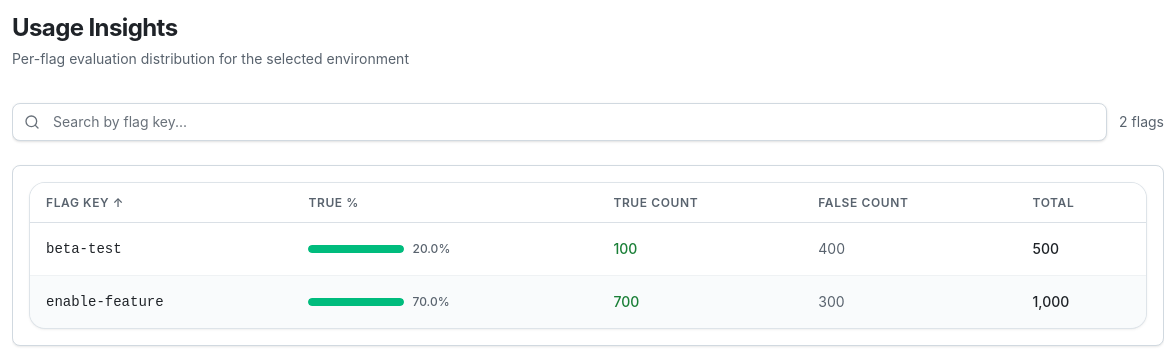
Test: UsageInsightsPage › search filter on flag key
Expected: the text "enable-feature" is shown, 30,276 -> 292,328
In the field with placeholder "Search by flag key...": (560, 122) 12,103 -> 1107,141, type "beta"
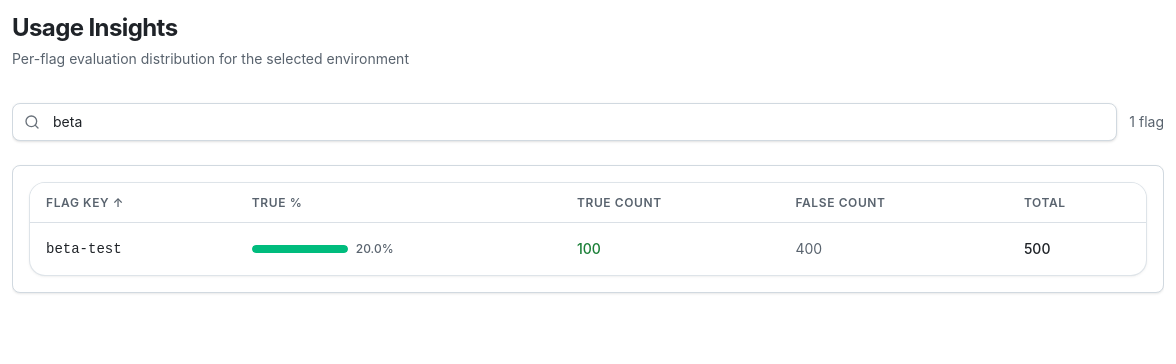
Expected: the text "beta-test" is shown, 30,223 -> 236,275
Expected: the text "enable-feature" is gone
